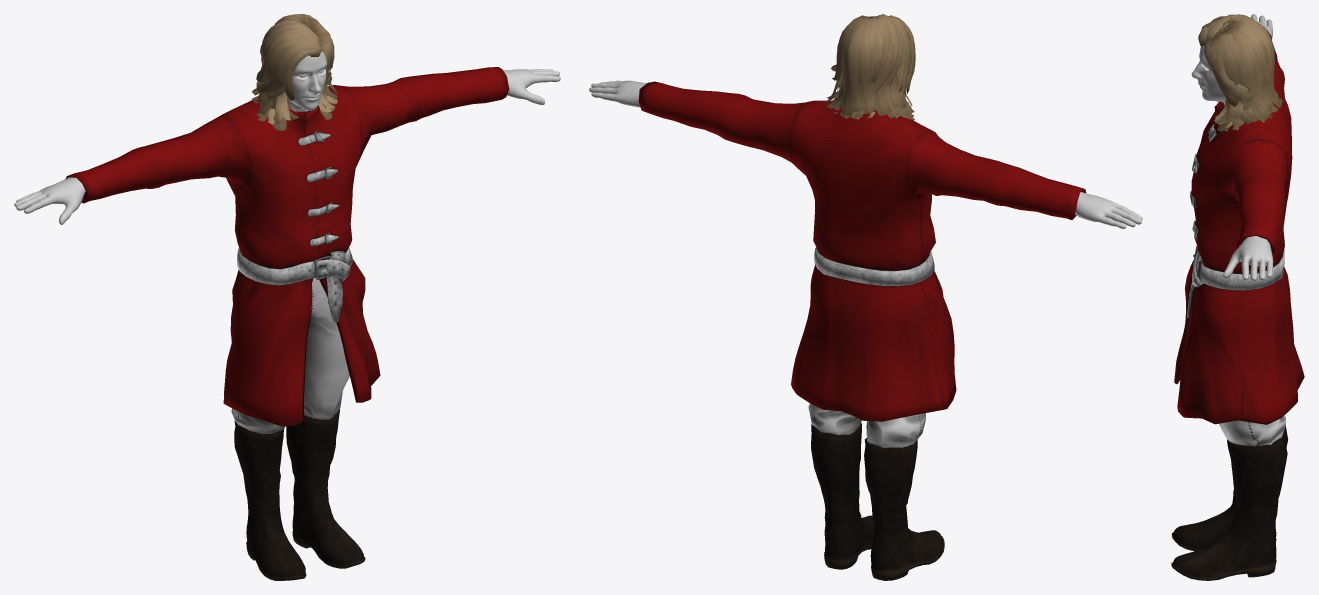
File: PrinceOBJ.obj
3 views of the same model, side by side, from view 1: azimuth 30°, elevation 25°; view 2: azimuth 150°, elevation 25°; view 3: azimuth 270°, elevation 25° (orthographic).
Parts seen in each view (by area): view 1: Tops, Shoes, Hair, Bottoms, Body; view 2: Tops, Shoes, Hair, Bottoms, Body; view 3: Tops, Shoes, Hair, Body, Bottoms.
Boxes of the visible parts, x1,y1,x2,y2 form: Tops: (65, 67, 509, 426); Shoes: (234, 409, 365, 580); Hair: (252, 14, 337, 130); Bottoms: (231, 277, 349, 434); Body: (14, 51, 560, 224); Tops: (638, 81, 1086, 421); Shoes: (811, 423, 944, 580); Hair: (824, 14, 915, 120); Bottoms: (808, 403, 925, 448); Body: (589, 80, 1142, 228); Tops: (1174, 29, 1304, 424); Shoes: (1171, 426, 1288, 580); Hair: (1198, 14, 1282, 131); Body: (1191, 14, 1273, 281); Bottoms: (1204, 265, 1285, 446).
Bounding box in the file's own units: 194 × 184 × 40.97.
